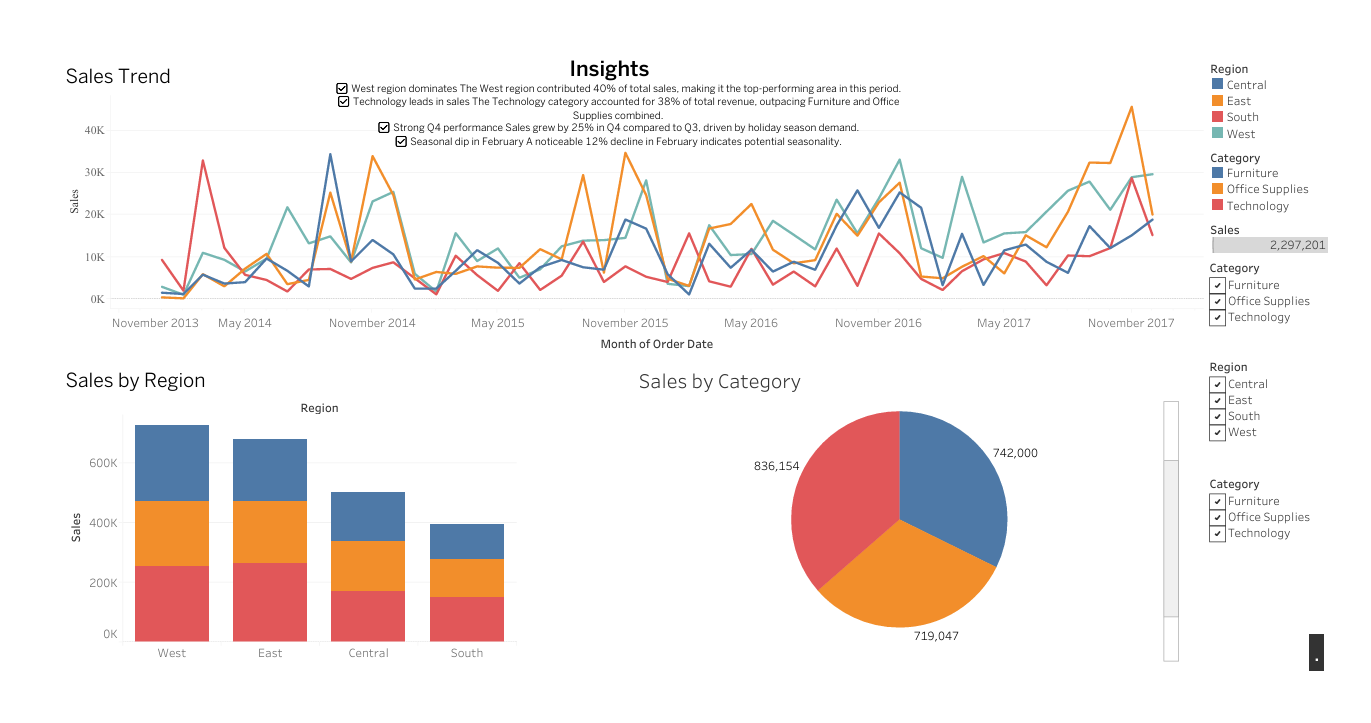

The page's visual inventory and layout, read from the dashboard file:
{"tool":"tableau","page":{"name":"Superstore_Sales","canvas":[1000,1000],"units":"permille","ordinal":0},"visuals":[{"type":"worksheet","title":"Sales Trend","mark":"Automatic","rows":["Sales"],"cols":["Order Date"],"box":[4.8,10,893.8,490]},{"type":"legend","title":"Sales Trend","param":"[federated.0xsa9xn1nkgpat16idxen0zdfb77].[none:Region:nk]","box":[898.6,10,96.6,142.3]},{"type":"legend","title":"Sales by Region","param":"[federated.0xsa9xn1nkgpat16idxen0zdfb77].[none:Category:nk]","box":[898.6,152.3,96.6,116.1]},{"type":"legend","title":"Sales by Category","param":"[federated.0xsa9xn1nkgpat16idxen0zdfb77].[sum:Sales:qk]","box":[898.6,268.4,96.6,63.7]},{"type":"filter","title":"Sales by Region","param":"[federated.0xsa9xn1nkgpat16idxen0zdfb77].[none:Category:nk]","box":[898.6,332.1,96.6,159.8]},{"type":"filter","title":"Sales by Region","param":"[federated.0xsa9xn1nkgpat16idxen0zdfb77].[none:Region:nk]","box":[898.6,491.9,96.6,188.5]},{"type":"worksheet","title":"Sales by Region","mark":"Automatic","rows":["Sales"],"cols":["Region"],"box":[4.8,500,446.9,490]},{"type":"worksheet","title":"Sales by Category","mark":"Pie","box":[451.7,500,446.9,490]},{"type":"filter","title":"Sales by Category","param":"[federated.0xsa9xn1nkgpat16idxen0zdfb77].[none:Category:nk]","box":[898.6,680.4,96.6,159.8]}]}

Visuals, with their boxes on the dashboard's canvas, which has no fixed pixel size, in thousandths of its width and height (x1, y1, x2, y2). These are canvas units, not pixel positions in the 1371x723 screenshot, which may show the page scaled, cropped or inside an application window:
"Sales Trend" worksheet: [left=5, top=10, right=899, bottom=500]
"Sales Trend" legend: [left=899, top=10, right=995, bottom=152]
"Sales by Region" legend: [left=899, top=152, right=995, bottom=268]
"Sales by Category" legend: [left=899, top=268, right=995, bottom=332]
"Sales by Region" filter: [left=899, top=332, right=995, bottom=492]
"Sales by Region" filter: [left=899, top=492, right=995, bottom=680]
"Sales by Region" worksheet: [left=5, top=500, right=452, bottom=990]
"Sales by Category" worksheet (Pie marks): [left=452, top=500, right=899, bottom=990]
"Sales by Category" filter: [left=899, top=680, right=995, bottom=840]
